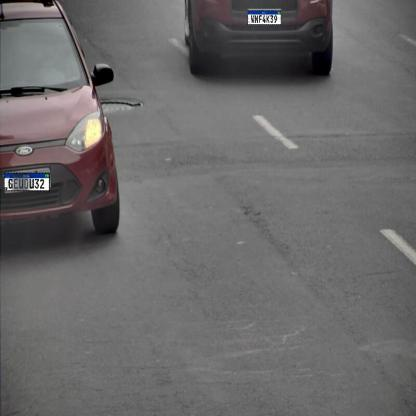PlacaM: (4, 173, 50, 191), (248, 10, 282, 25)
